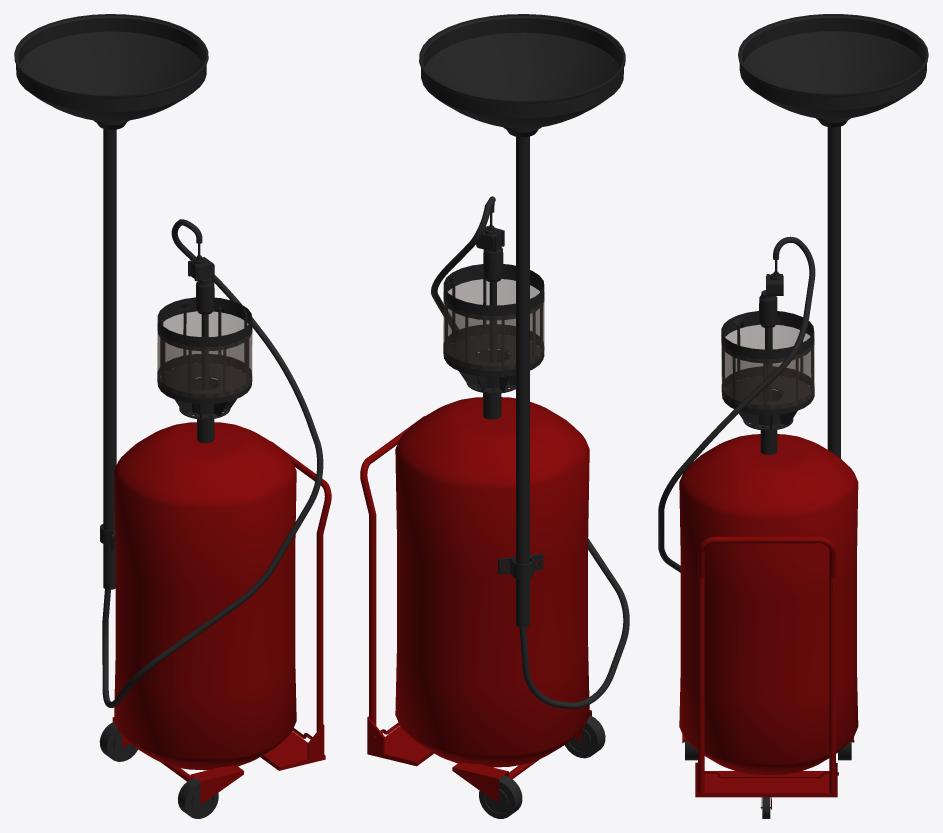
Rendered from CK_WJ_hongseyoutong_01.FBX.
3 renders of one model, left to right at view 1: azimuth 30°, elevation 25°; view 2: azimuth 150°, elevation 25°; view 3: azimuth 270°, elevation 25°, orthographic. The views are drawn at different scales.
Visible parts, largest first — view 1: CK_WJ_hongseyoutong_01; view 2: CK_WJ_hongseyoutong_01; view 3: CK_WJ_hongseyoutong_01.
Boxes of the visible parts, left/top/right/bottom form: CK_WJ_hongseyoutong_01: left=14, top=14, right=331, bottom=818; CK_WJ_hongseyoutong_01: left=360, top=14, right=629, bottom=818; CK_WJ_hongseyoutong_01: left=658, top=14, right=928, bottom=818.
Bounding box in the file's own units: 59.63 × 170 × 59.63.
